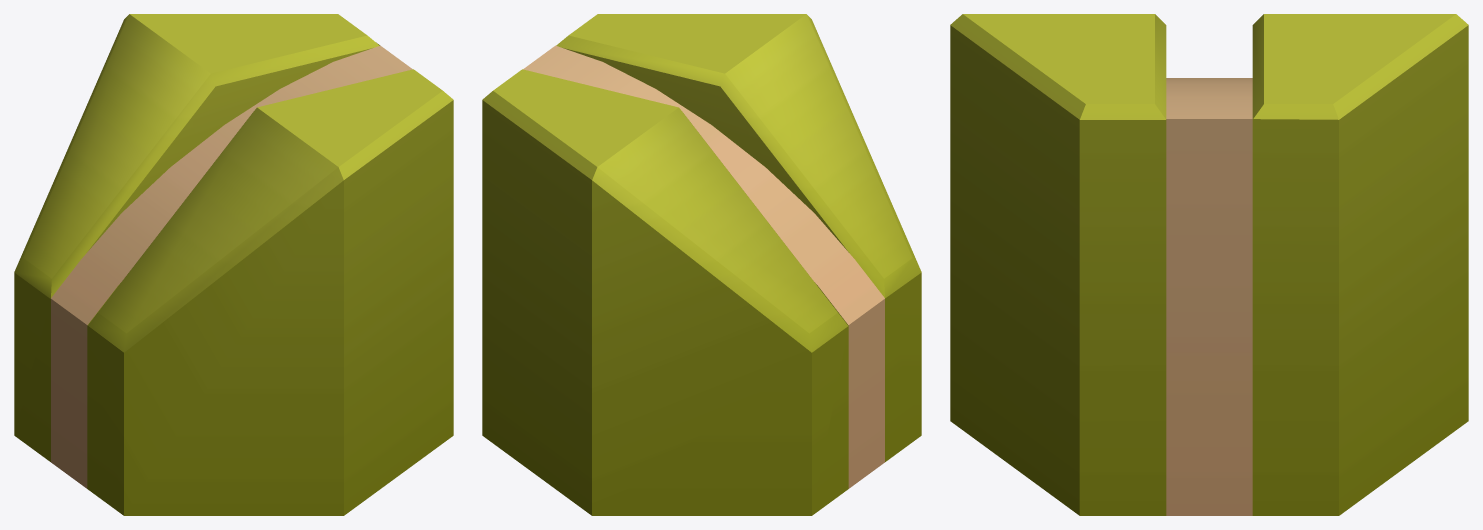
Rendered from kaykit-medieval-hexagon-pack-hex-road-a-sloped-high.glb.
3 views of the same model, side by side, from view 1: azimuth 30°, elevation 25°; view 2: azimuth 150°, elevation 25°; view 3: azimuth 270°, elevation 25° (orthographic). The views are drawn at different scales.
Parts seen in each view (by area): view 1: hex_road_A_sloped_high; view 2: hex_road_A_sloped_high; view 3: hex_road_A_sloped_high.
Boxes of the visible parts, x1,y1,x2,y2 form: hex_road_A_sloped_high: [14, 14, 453, 515]; hex_road_A_sloped_high: [482, 14, 921, 515]; hex_road_A_sloped_high: [950, 14, 1468, 515].
Bounding box in the file's own units: 2 × 2 × 2.31.
Materials: 1 (1 with a texture image).
